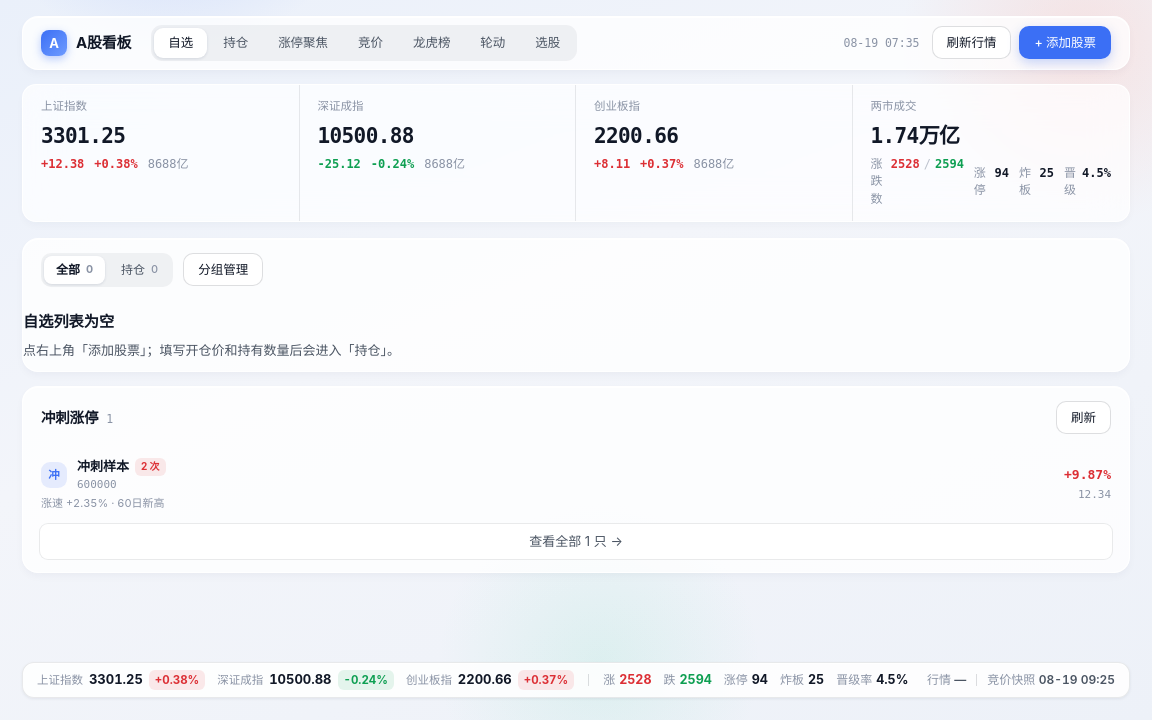
Test: Task 7 app interactions › jumps from the watchlist rail to the 涨停聚焦 · 冲刺涨停 tab
# 右栏的「查看全部」不只是切页：还要停在冲刺涨停页签上，否则用户看到的是涨停池
Step 1. Click the button "查看全部 1 只 →" → (576,541), box [39, 523, 1113, 560]
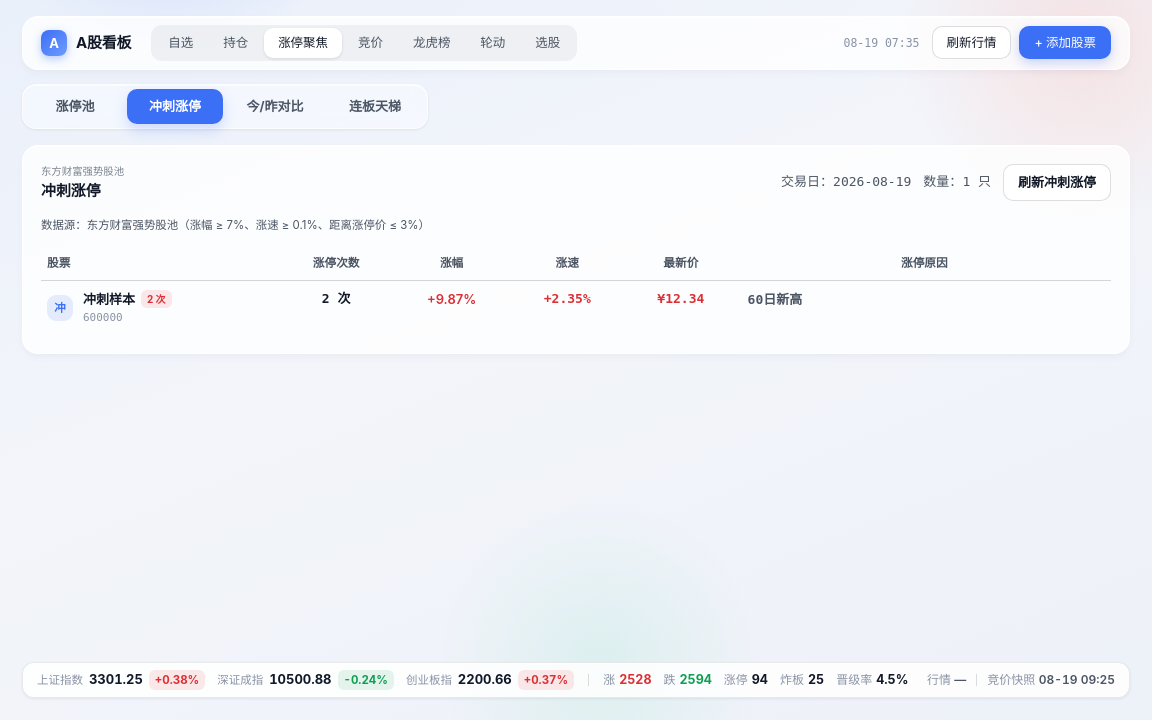
Now the table named "冲刺涨停列表" is shown, box [41, 247, 1111, 335]
